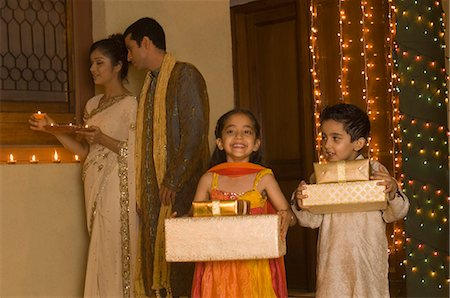person: (125, 18, 206, 298), (293, 100, 398, 297), (200, 108, 291, 298), (75, 36, 137, 298)
